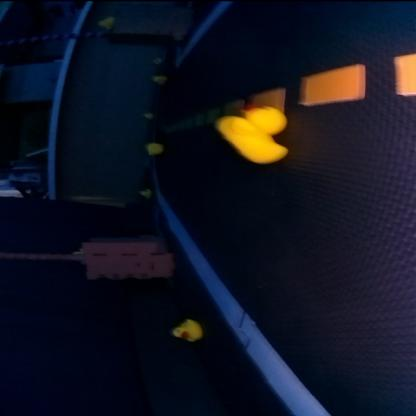Duckie: (215, 106, 287, 164), (172, 319, 202, 341), (146, 142, 162, 154), (98, 16, 112, 28), (139, 188, 151, 197), (154, 76, 166, 84)
